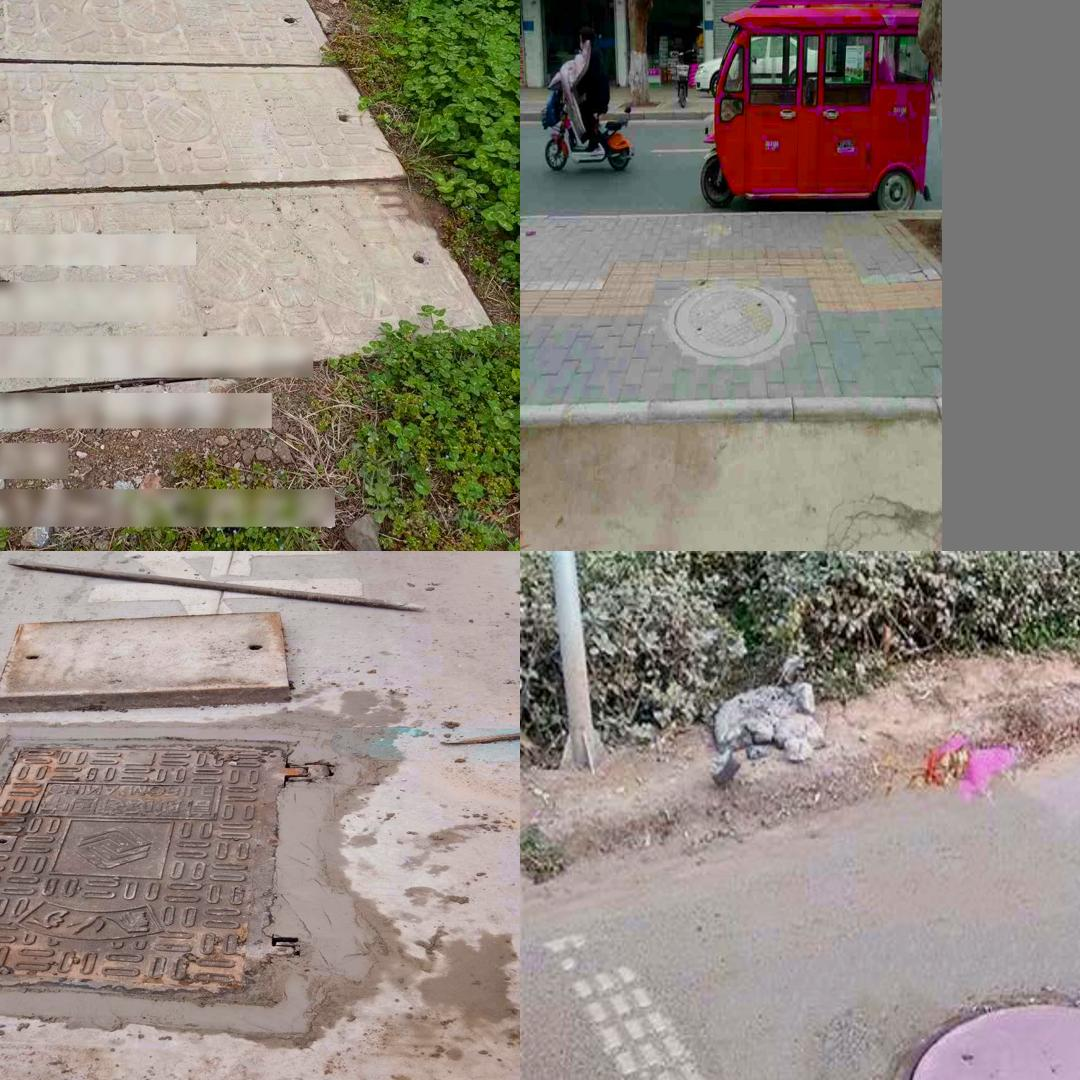good: (0, 0, 497, 439), (0, 736, 328, 998), (858, 972, 1080, 1080), (667, 283, 793, 361)
